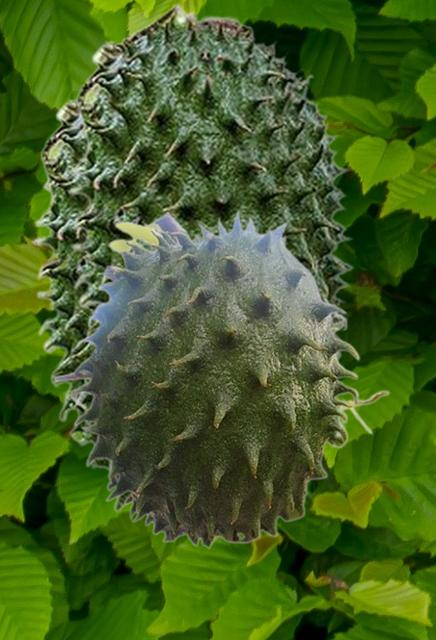guyabano: (52, 207, 390, 549), (67, 1, 354, 359), (32, 95, 158, 535)
